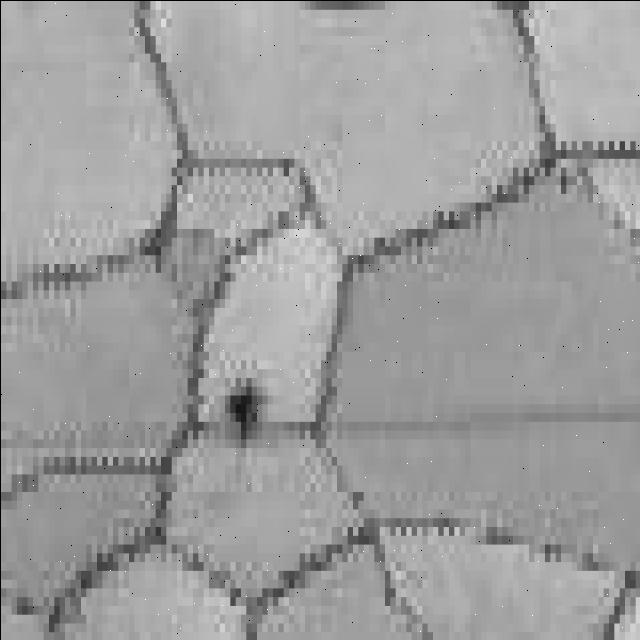good_void: (225, 365, 264, 449)
